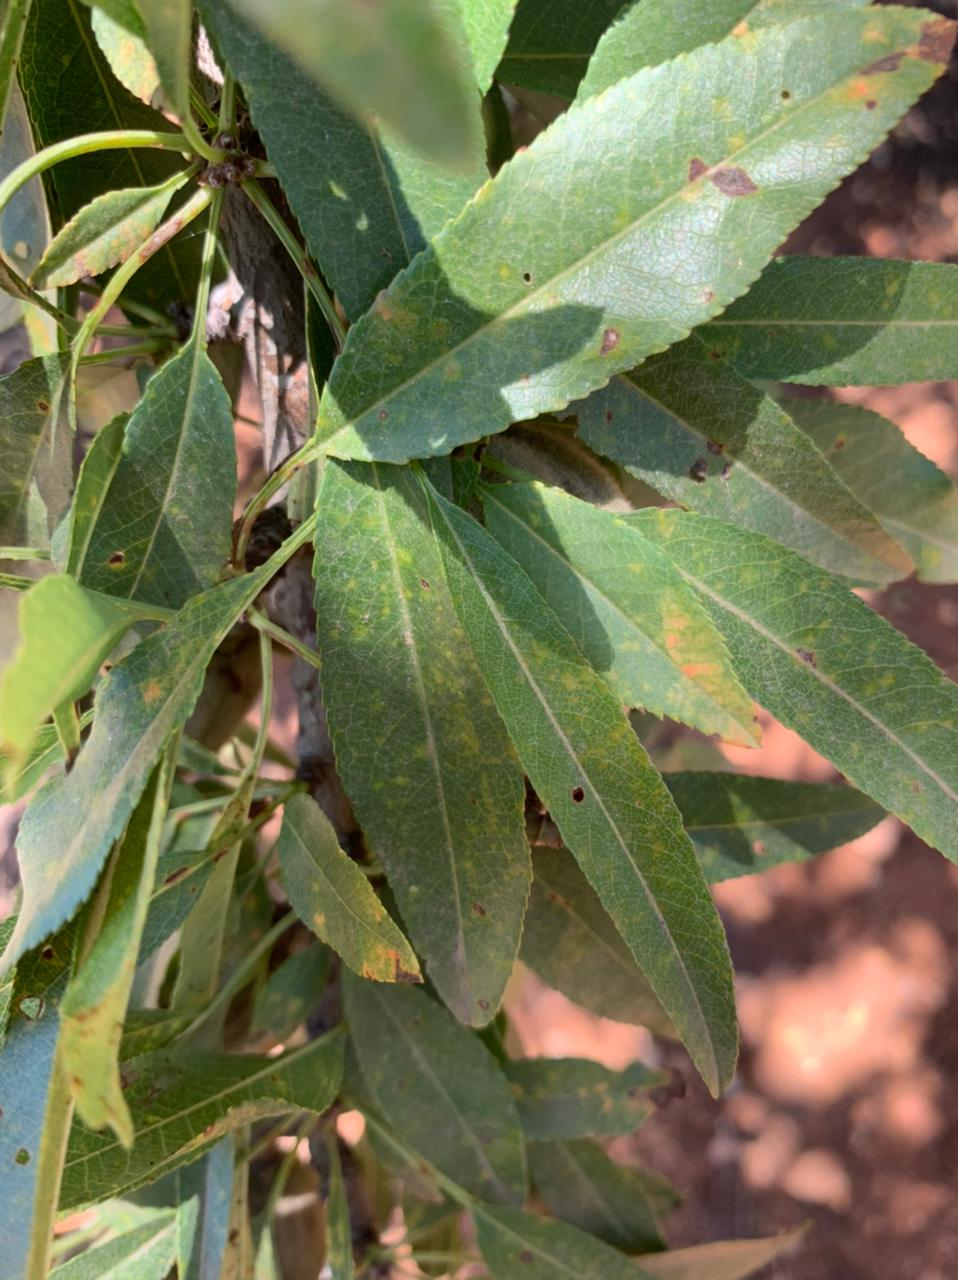rouille: (314, 2, 958, 467), (316, 444, 536, 1031), (613, 506, 958, 869), (341, 963, 529, 1206)
